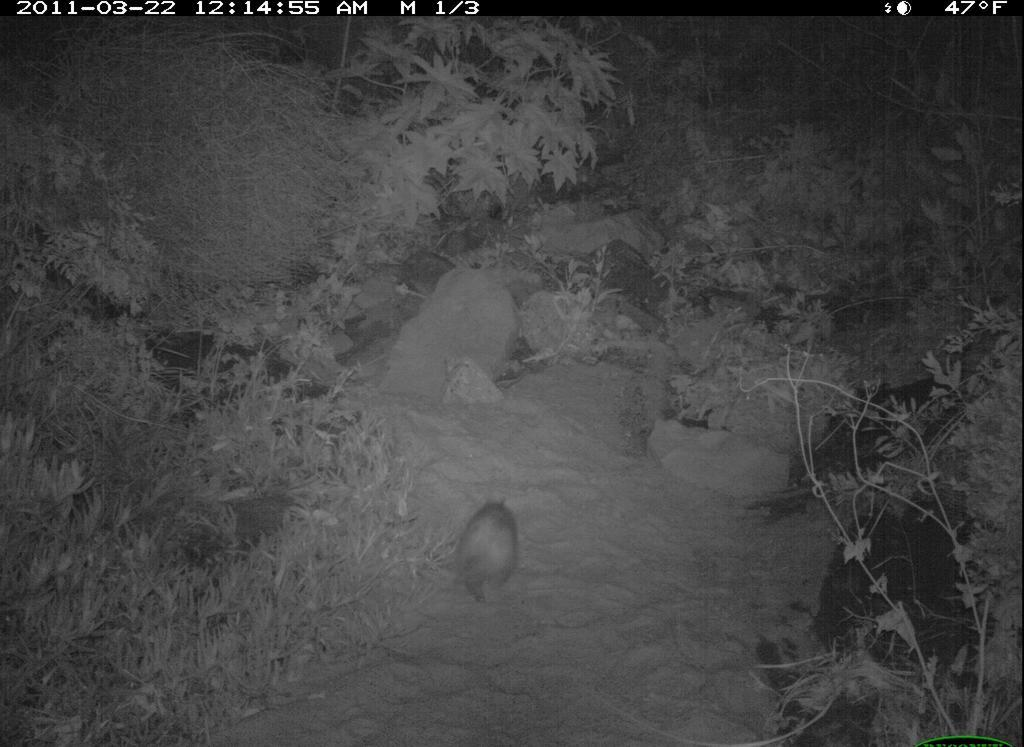opossum: (443, 486, 529, 614)
